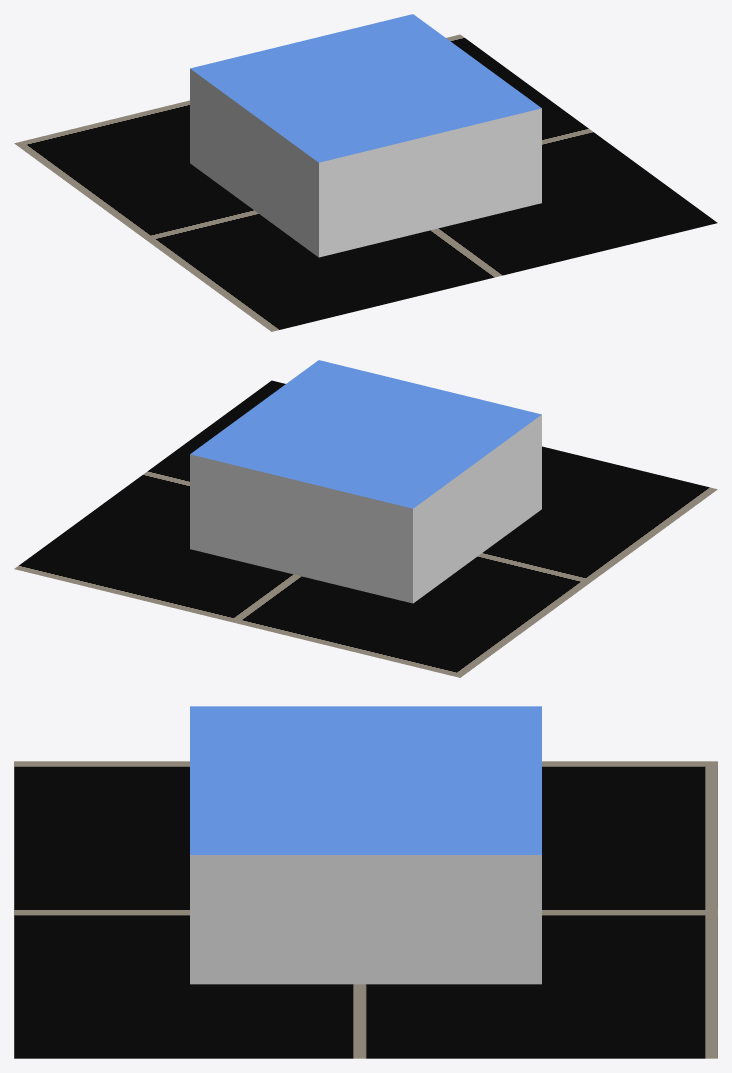
File: Iceberg_Flat_1x1.glb
3 views of the same model, one above another, from view 1: azimuth 30°, elevation 25°; view 2: azimuth 150°, elevation 25°; view 3: azimuth 270°, elevation 25° (orthographic). The views are drawn at different scales.
Parts seen in each view (by area): view 1: Iceberg_Flat_1x1, Floor; view 2: Iceberg_Flat_1x1, Floor; view 3: Floor, Iceberg_Flat_1x1.
Part boxes in pixels (x1,y1,x2,y2): Iceberg_Flat_1x1: (190,14,541,257); Floor: (14,34,717,331); Iceberg_Flat_1x1: (190,360,541,603); Floor: (14,380,717,677); Floor: (14,761,717,1058); Iceberg_Flat_1x1: (190,706,541,984).
Size of the model in its own units: 200 by 40.63 by 200.
Materials: 3 (1 with a texture image).
